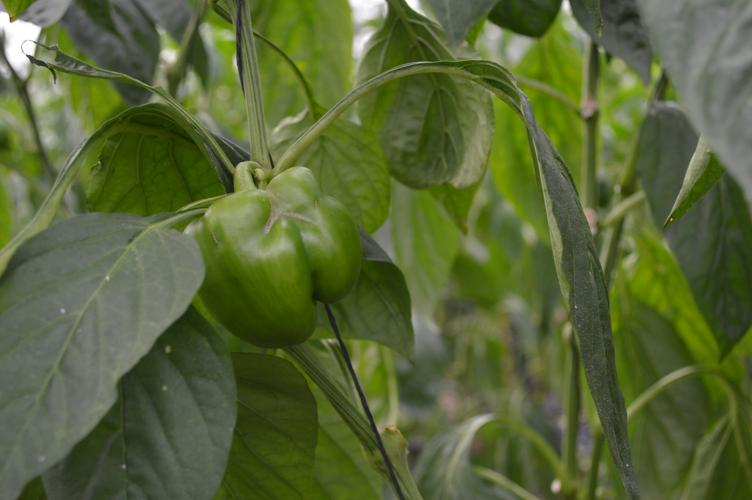BellPepper: (190, 169, 362, 347)
